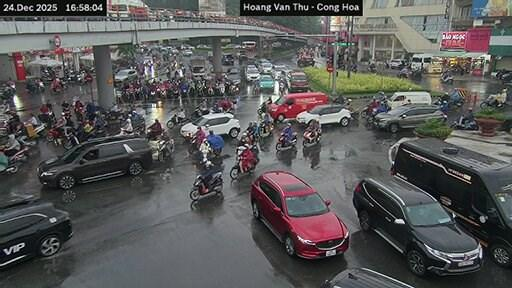motorbike: (188, 171, 220, 199), (0, 145, 28, 172), (230, 152, 258, 179), (275, 131, 295, 149), (16, 130, 37, 147), (61, 129, 79, 148), (480, 94, 506, 107), (451, 116, 477, 129), (157, 139, 172, 161), (166, 113, 186, 127), (304, 129, 320, 145), (192, 106, 208, 117), (146, 127, 160, 139), (259, 122, 271, 136), (358, 104, 370, 117), (409, 68, 422, 80), (441, 72, 453, 81), (398, 68, 409, 77), (256, 103, 266, 112), (349, 108, 358, 118), (278, 81, 284, 94), (368, 66, 376, 72), (3, 154, 6, 156)
